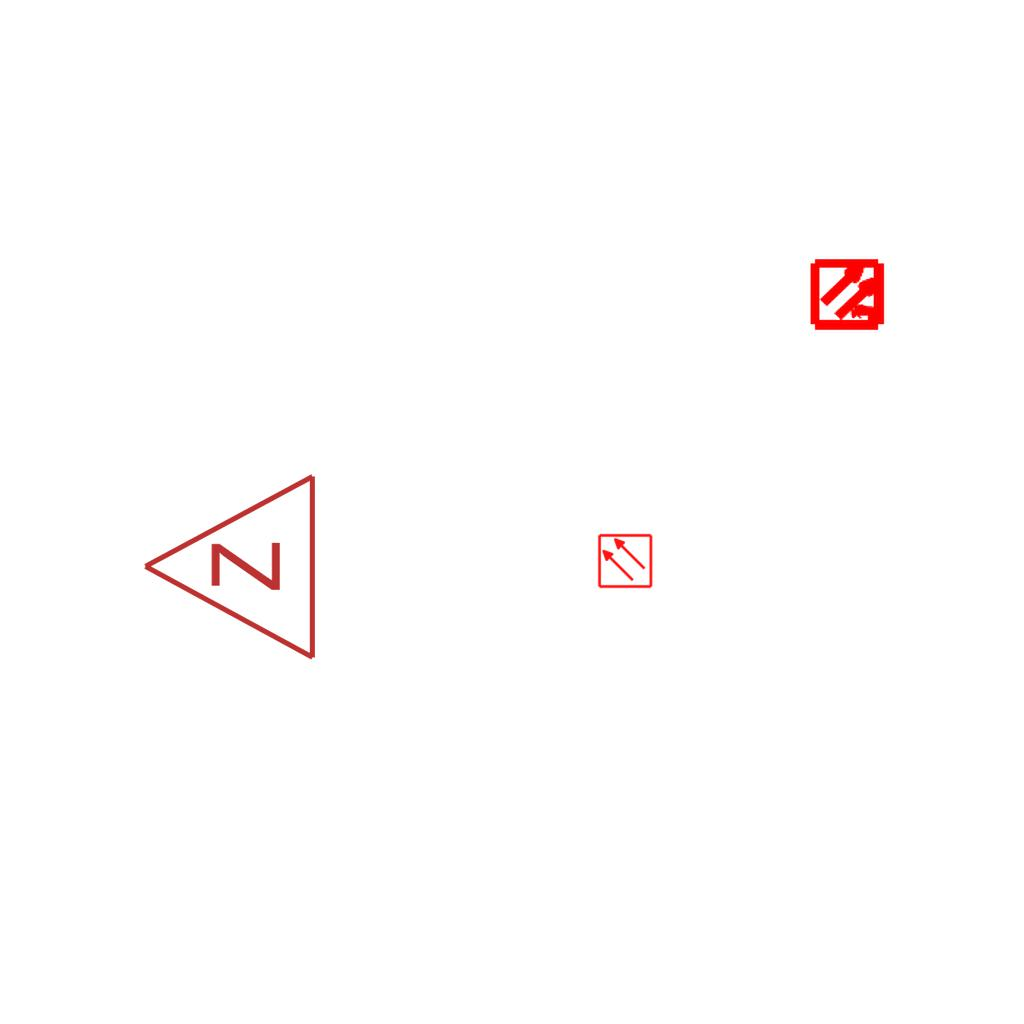OT_Multisensormelder_(Kombination_RMO_WMD): (793, 238, 906, 351)
RMO_Rauchmelder_optischer: (597, 533, 653, 589)
Zimmersignalleuchte: (130, 471, 330, 667)
